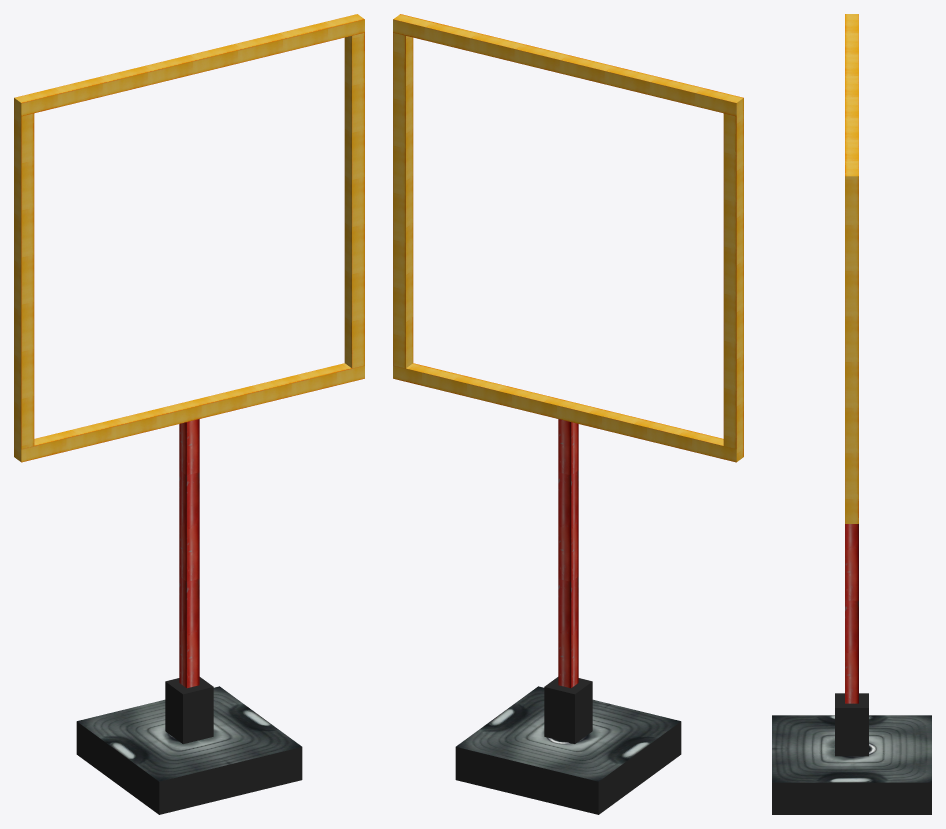
The model's file is dronerace_gate.dae.
3 views of the same model, side by side, from view 1: azimuth 30°, elevation 25°; view 2: azimuth 150°, elevation 25°; view 3: azimuth 270°, elevation 25° (orthographic). The views are drawn at different scales.
Visible parts, largest first — view 1: instance_0 (×5); view 2: instance_0 (×5); view 3: instance_0 (×5).
Part boxes in pixels (x1,y1,x2,y2): instance_0 (×5): (14,14,364,814); instance_0 (×5): (393,14,743,814); instance_0 (×5): (772,14,931,814).
Bounding box in the file's own units: 42.52 × 17.72 × 83.86.
5 materials, 3 textured.
